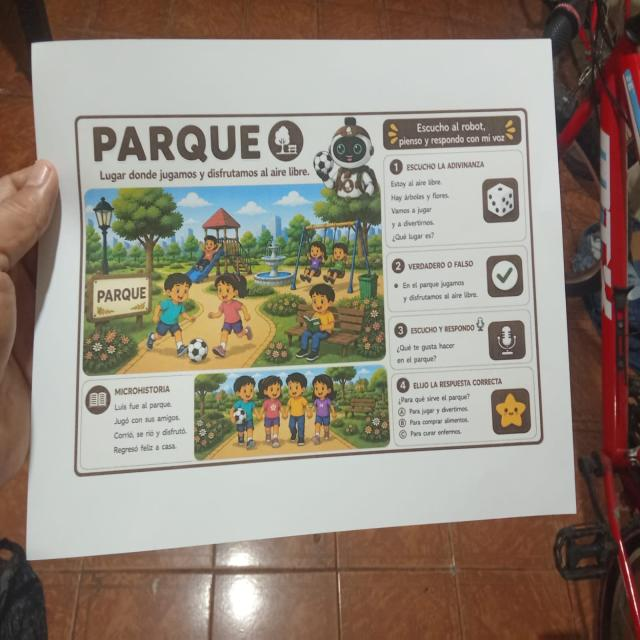parque: (70, 101, 548, 484)
